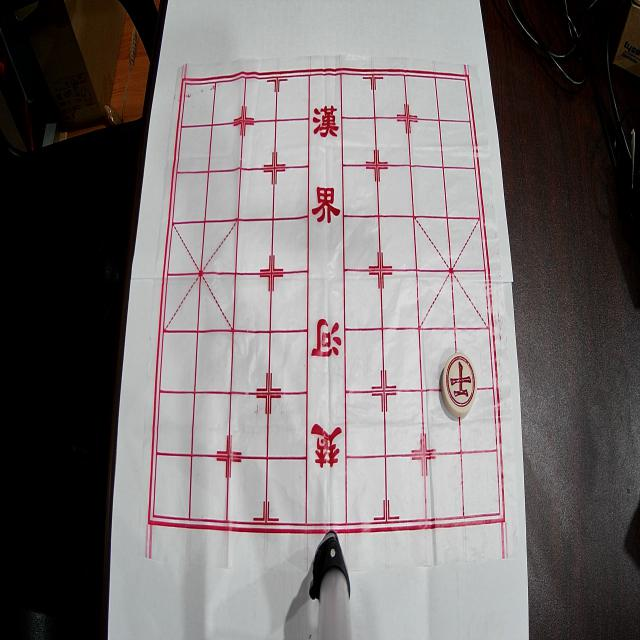red-guard: (441, 352, 477, 417)
